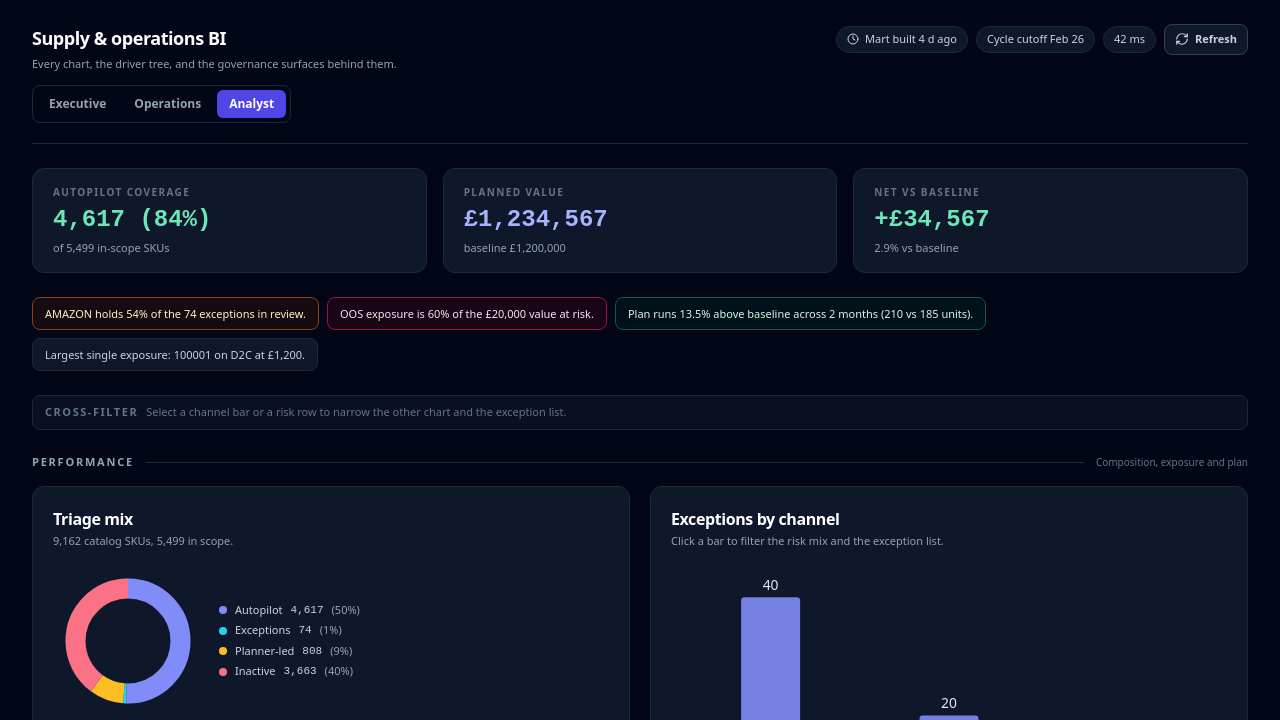
Test case: BiPage › segments the dashboard by persona
The image size is (1280, 720).
Expected: the element with test id "bi-kpis" is shown, top-left (32, 168), bottom-right (1248, 273)
Click the tab with test id "bi-persona-executive" at (78, 104), box top-left (37, 90), bottom-right (118, 118)
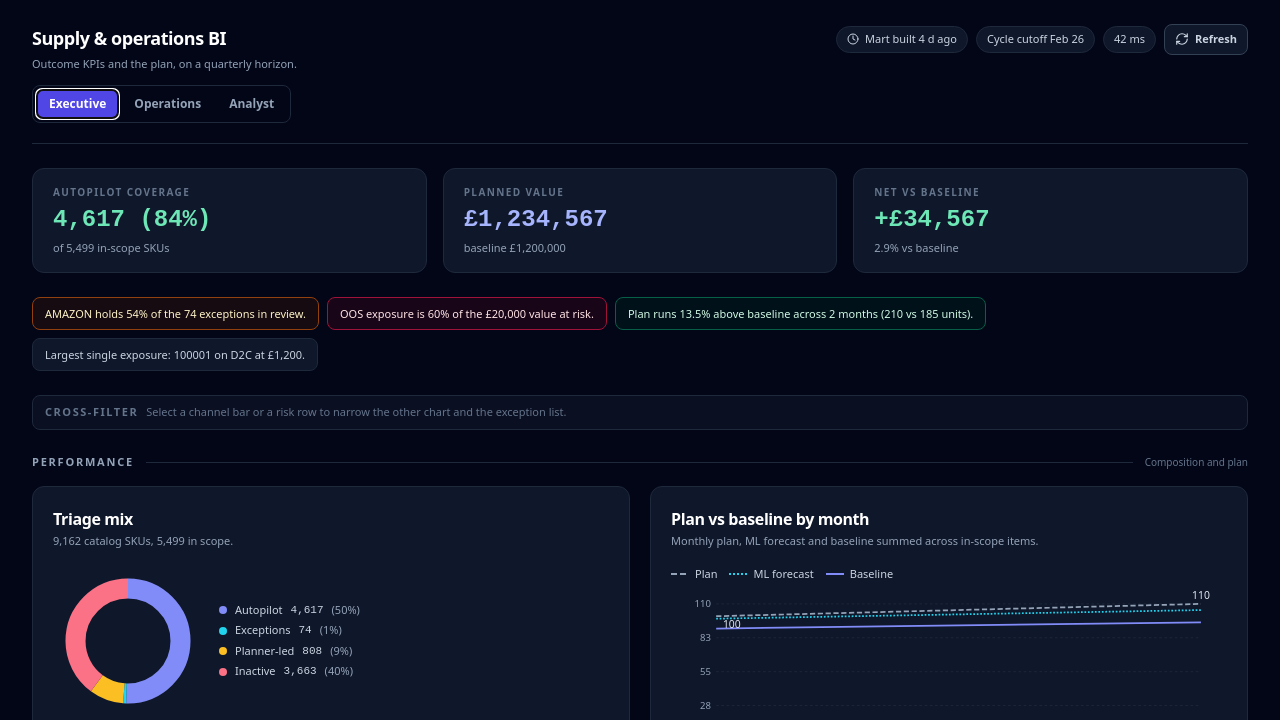
Expected: the element with test id "bi-triage-donut" is shown, top-left (52, 565), bottom-right (364, 716)
Expected: the tab with test id "bi-persona-executive" is selected, top-left (37, 90), bottom-right (118, 118)
Click the tab with test id "bi-persona-operations" at (168, 104), box top-left (122, 90), bottom-right (213, 118)
(page scrolled)
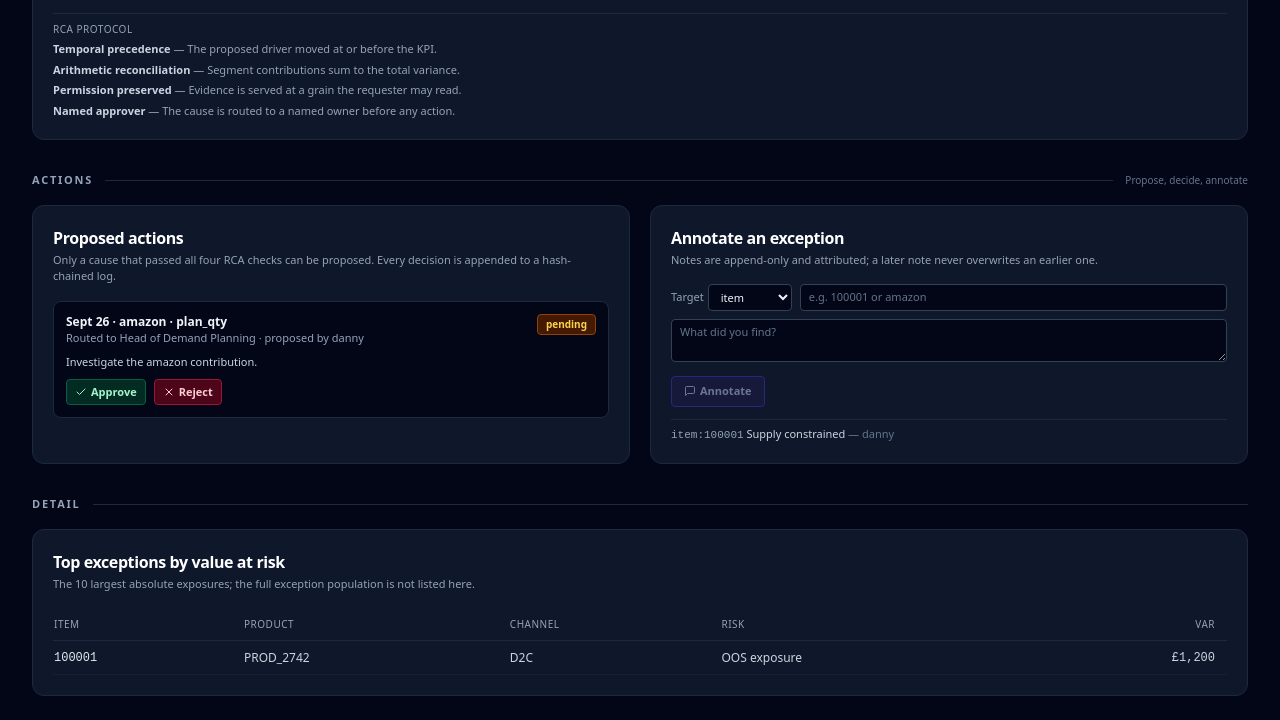
Expected: the element with test id "bi-top-table" is shown, top-left (53, 608), bottom-right (1227, 675)
Expected: the element with test id "bi-triage-donut" is gone
